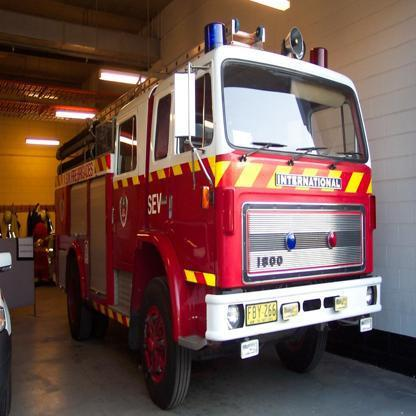fire-truck: (29, 9, 386, 412)
